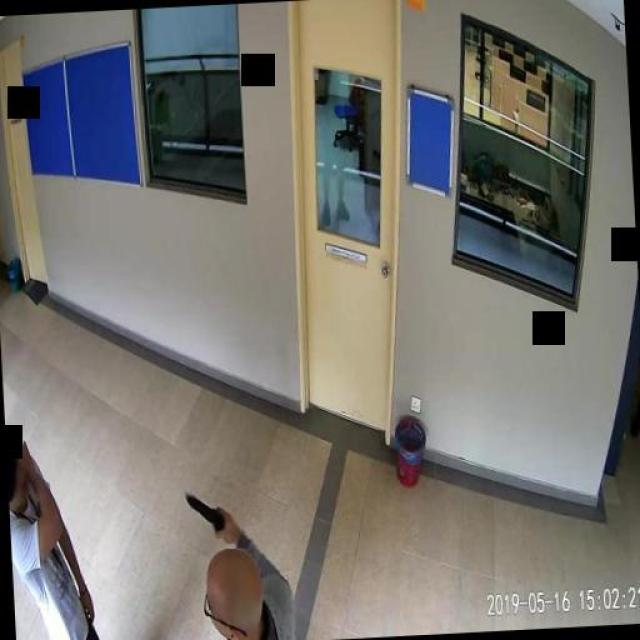gun: (182, 488, 226, 542)
